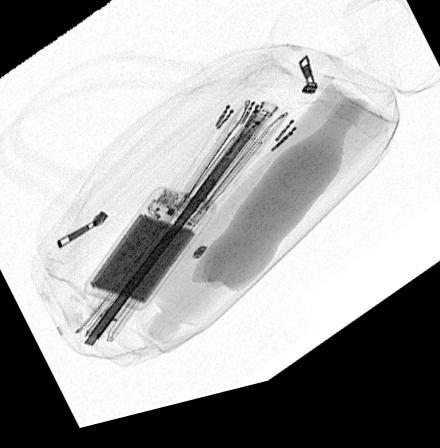Powerbank: (83, 193, 217, 317)
